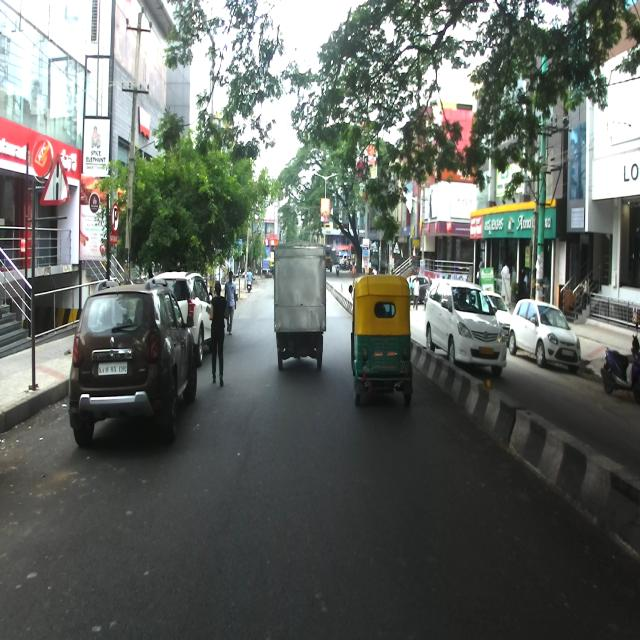car ahead at: (67, 277, 198, 438)
person ahead at: (205, 277, 234, 389)
sign board ahead at: (45, 155, 74, 215)
truck ahead at: (345, 277, 414, 407), (275, 244, 328, 373)
